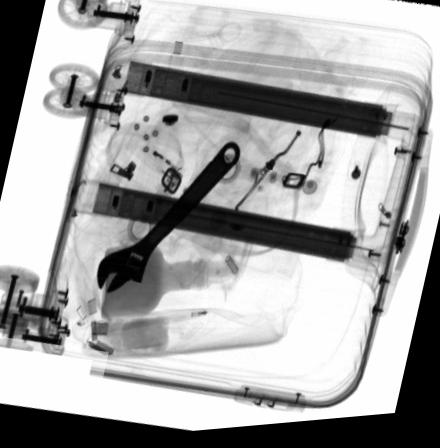Wrench: (96, 146, 240, 295)
